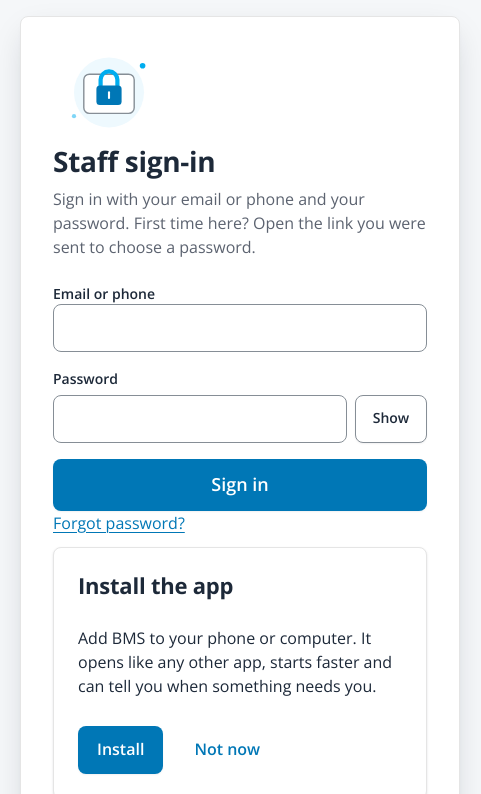
it: the pages that offer the install › can be waved away from a page and stays away on the next
The image size is (481, 794).
Click the button "Not now": (227, 750) x1=175 y1=726 x2=279 y2=774
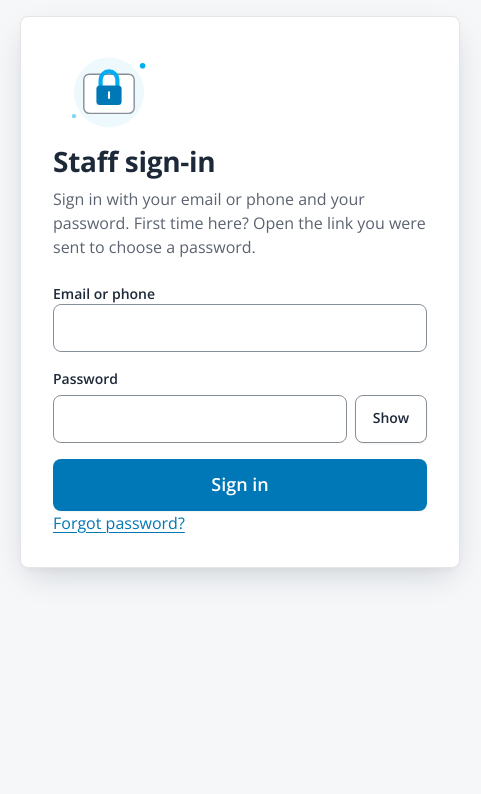
Now the heading "Install the app" is gone
